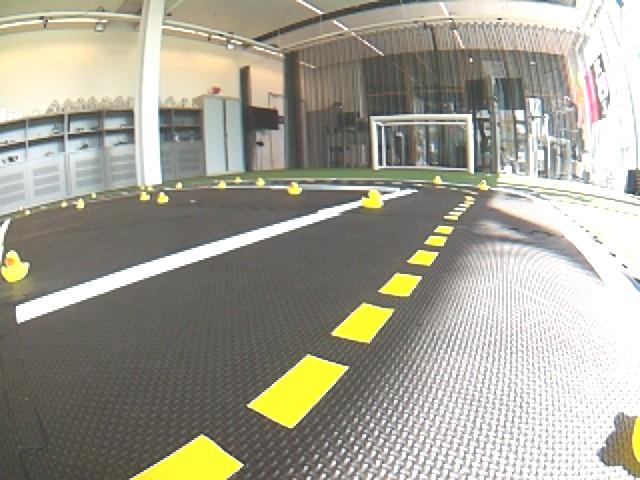Duckies: (0, 251, 28, 283), (360, 189, 384, 208), (288, 182, 301, 195), (156, 192, 169, 204), (478, 180, 488, 191), (255, 177, 265, 188), (139, 193, 151, 201), (77, 198, 85, 208), (219, 180, 227, 188), (234, 175, 241, 183), (434, 177, 442, 183), (175, 183, 182, 189), (61, 202, 68, 208), (139, 185, 146, 190), (91, 193, 97, 198), (148, 185, 154, 190)
